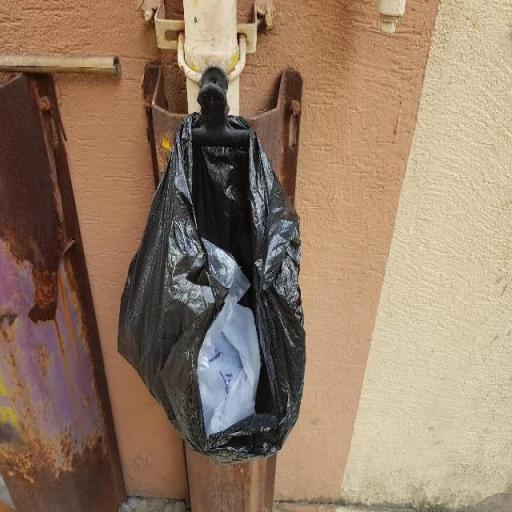plastic-bag: (116, 108, 308, 465)
